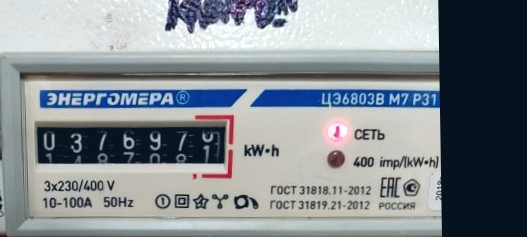0: (41, 128, 55, 150)
1: (199, 143, 212, 163)
3: (68, 131, 83, 153)
6: (120, 126, 135, 149)
7: (93, 127, 108, 150), (174, 128, 188, 151)
9: (146, 127, 161, 151)
screen: (25, 108, 237, 185)
